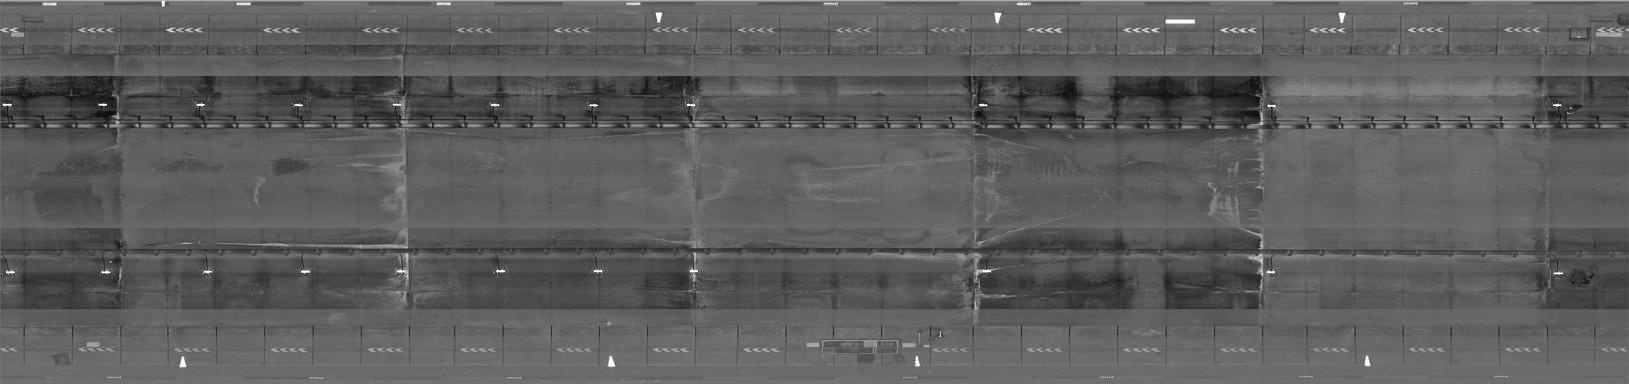light: (199, 266, 219, 279), (588, 265, 608, 278), (680, 266, 705, 276), (977, 266, 1002, 276), (583, 97, 600, 111), (192, 99, 214, 110), (1261, 267, 1283, 278), (97, 268, 119, 278), (388, 100, 408, 111), (94, 100, 113, 111), (392, 267, 412, 277), (290, 100, 310, 110), (682, 100, 701, 110), (1262, 101, 1280, 112), (1548, 99, 1566, 110), (1550, 269, 1568, 280), (4, 266, 20, 278), (486, 100, 505, 110), (977, 99, 992, 111), (491, 266, 509, 276), (296, 268, 315, 276), (1, 99, 15, 110)
